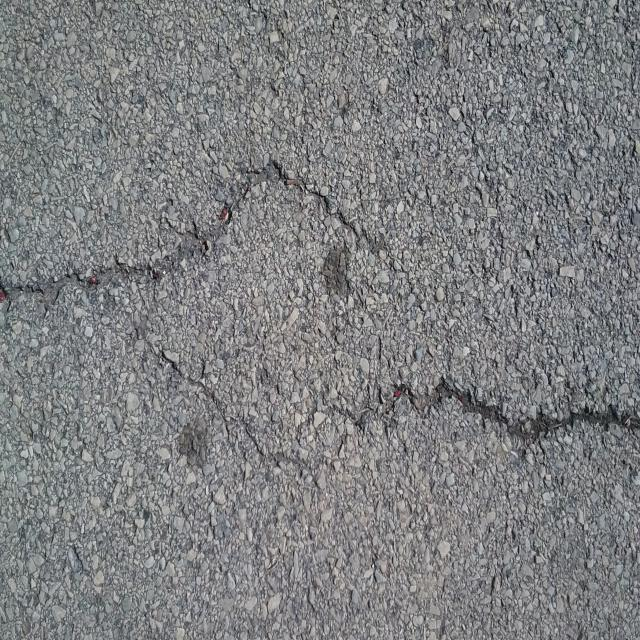Crack: (132, 330, 640, 474), (0, 160, 391, 306)
